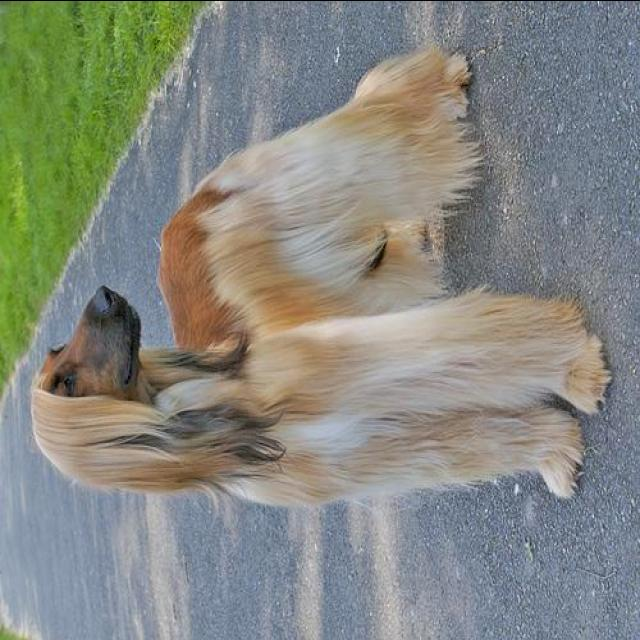afghan_hound: (28, 36, 616, 527)
